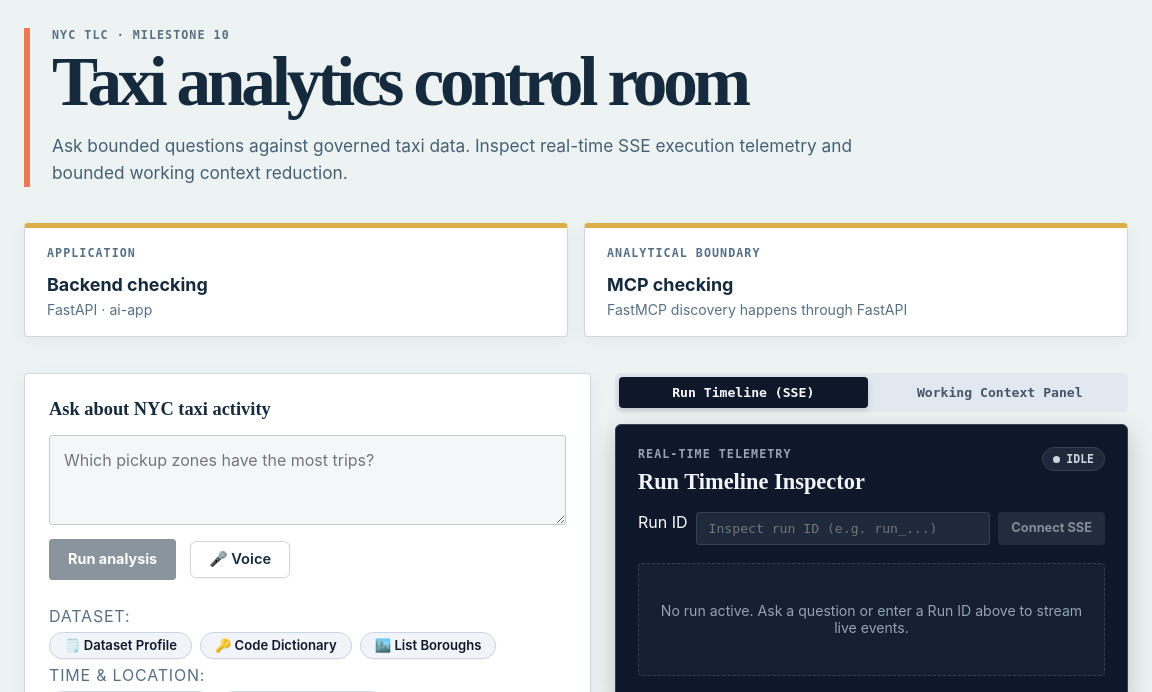
Test: App › renders TTFT as Available with latency when provider_stream source is reported
In the text box labelled "Ask about NYC taxi activity": [308, 480] box [49,436,566,526], type "Show TTFT"
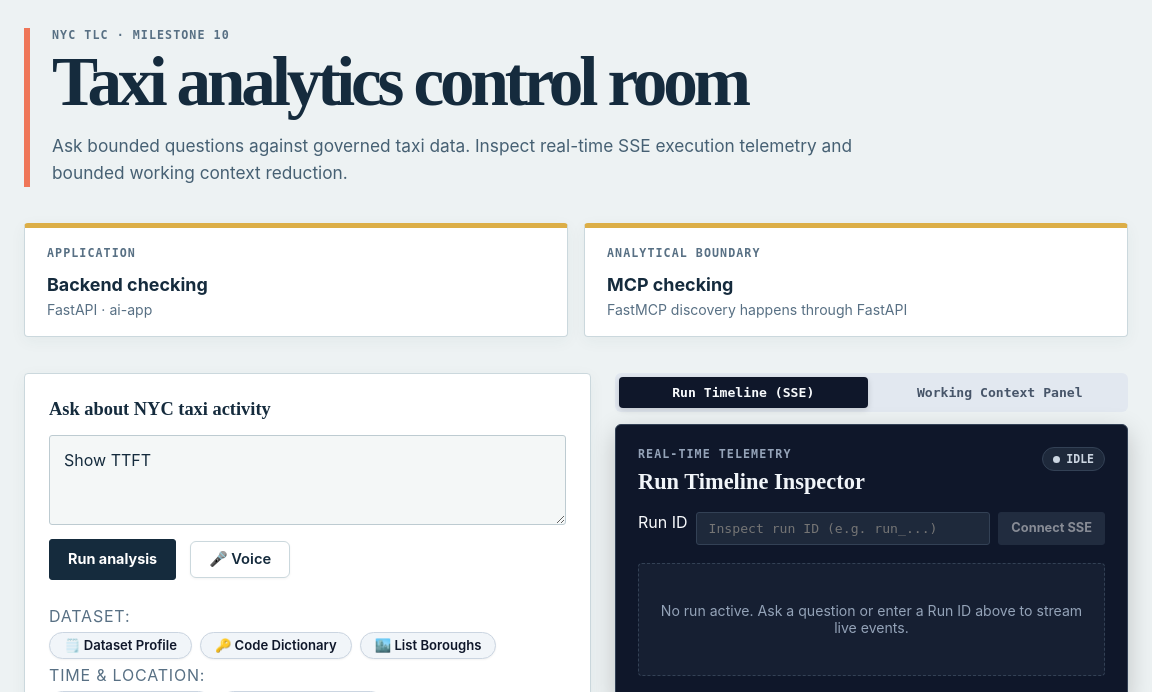
Click the button "Run analysis": [113, 560] box [49,540,176,580]
(page scrolled)
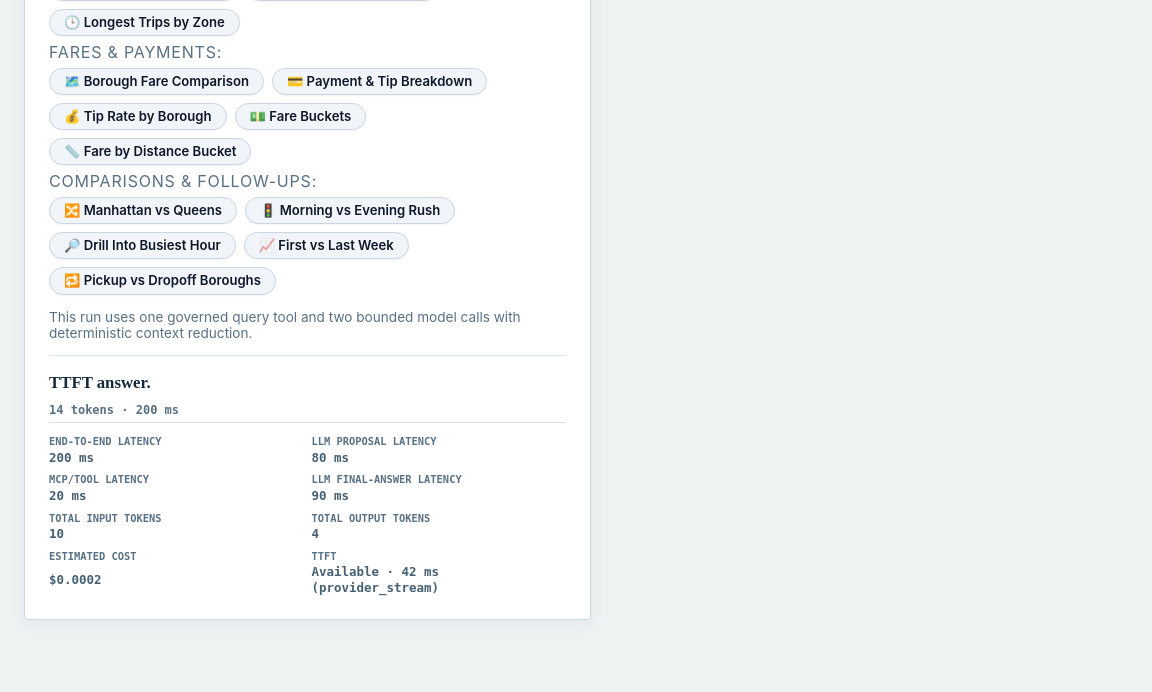
Check: the text "End-to-end latency" is shown, box [49,435,162,447]
Check: the text "Available · 42 ms (provider_stream)" is shown, box [312,564,439,595]
